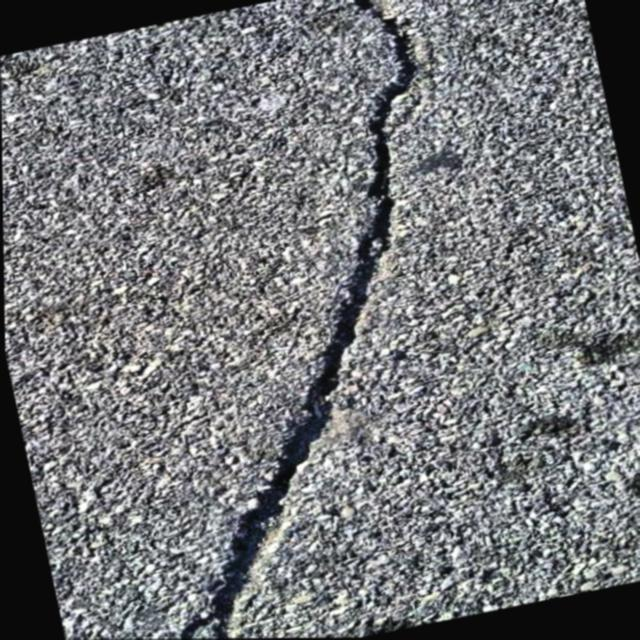Clogged Drains: (233, 96, 389, 638)
